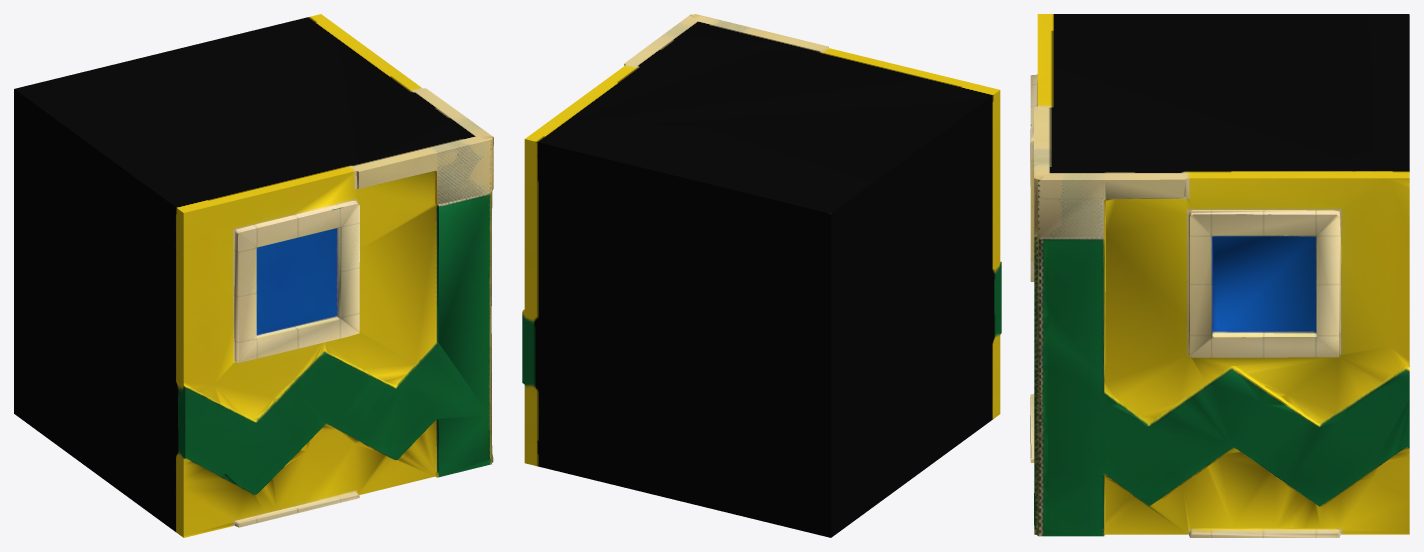
Rendered from 6-upper-walls-front-right.fbx.
3 renders of one model, left to right at view 1: azimuth 30°, elevation 25°; view 2: azimuth 150°, elevation 25°; view 3: azimuth 270°, elevation 25°, orthographic. The views are drawn at different scales.
Visible parts, largest first — view 1: upper-walls-front-right; view 2: upper-walls-front-right; view 3: upper-walls-front-right.
Part boxes in pixels (x1=…): upper-walls-front-right: x1=14, y1=14, x2=493, y2=537; upper-walls-front-right: x1=522, y1=14, x2=1001, y2=537; upper-walls-front-right: x1=1030, y1=14, x2=1409, y2=537.
Size of the model in its own units: 4796 by 4752 by 4583.
Materials: 1 (1 with a texture image).
